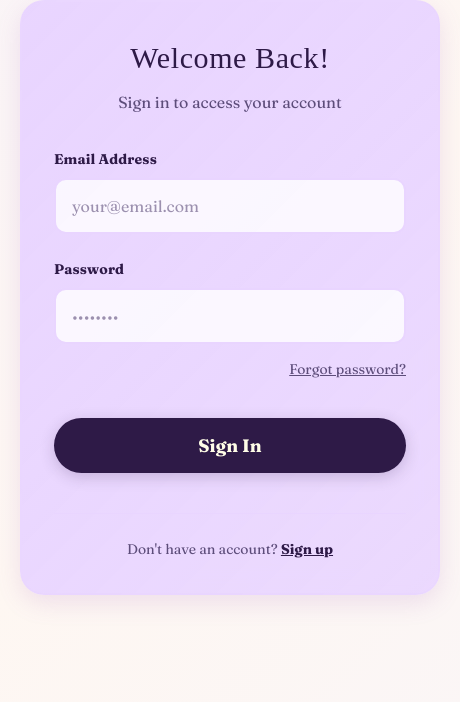
it: LoginForm › Form Validation › should show error when email is empty
Type "password123" into the password field labelled "Password" at (230, 316), box [54,288,406,344]
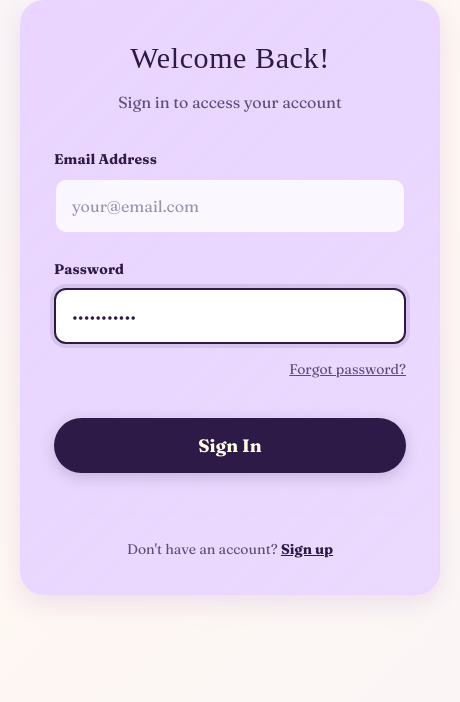
Click the button "Sign In" at (230, 446), box [54,418,406,473]
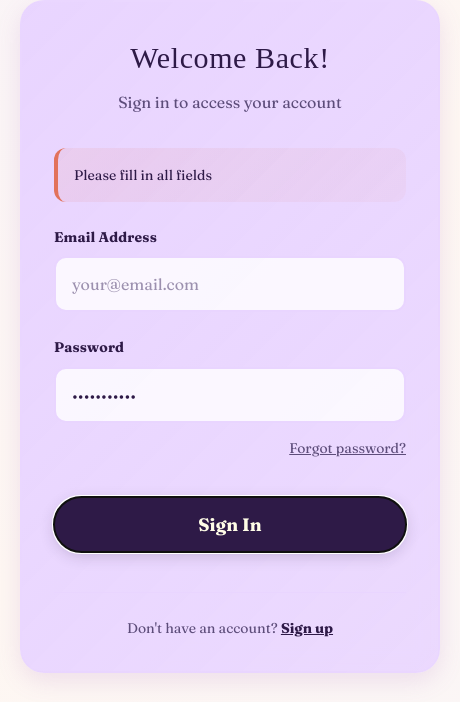
expect the text "Please fill in all fields" is shown: met, box [54,148,406,202]
